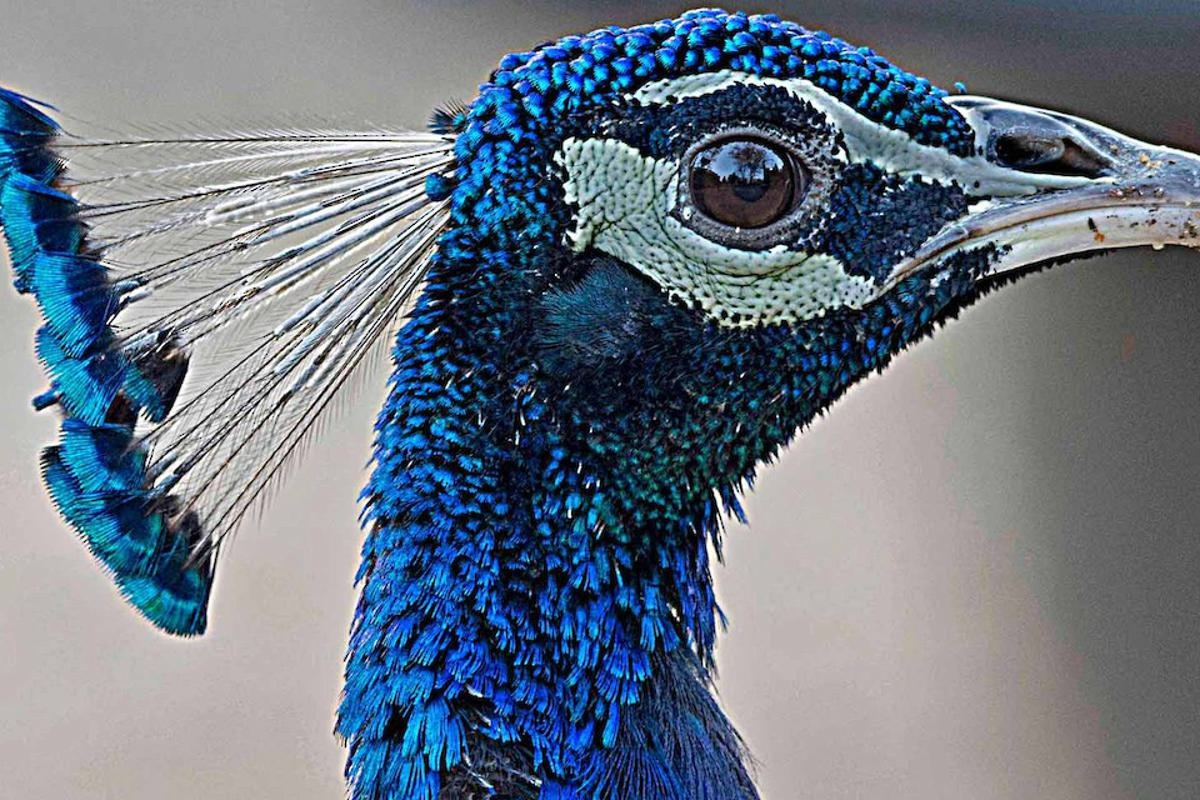peacock: (66, 24, 1181, 800)
